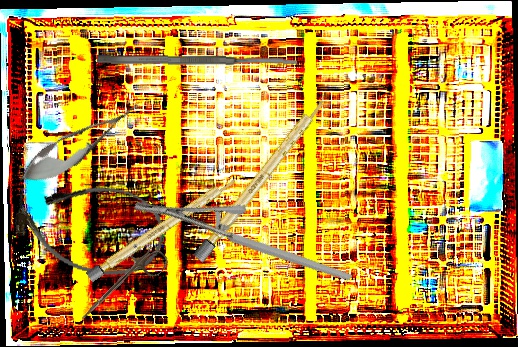Cannula: (6, 169, 172, 286)
Iris Scissors: (67, 230, 172, 337)
Micro Scissor: (11, 90, 149, 196)
Needle Holder: (132, 143, 353, 341)
Scalpel Handle: (192, 91, 331, 264), (85, 173, 240, 283)
Spatula Surgical: (96, 53, 298, 68)
